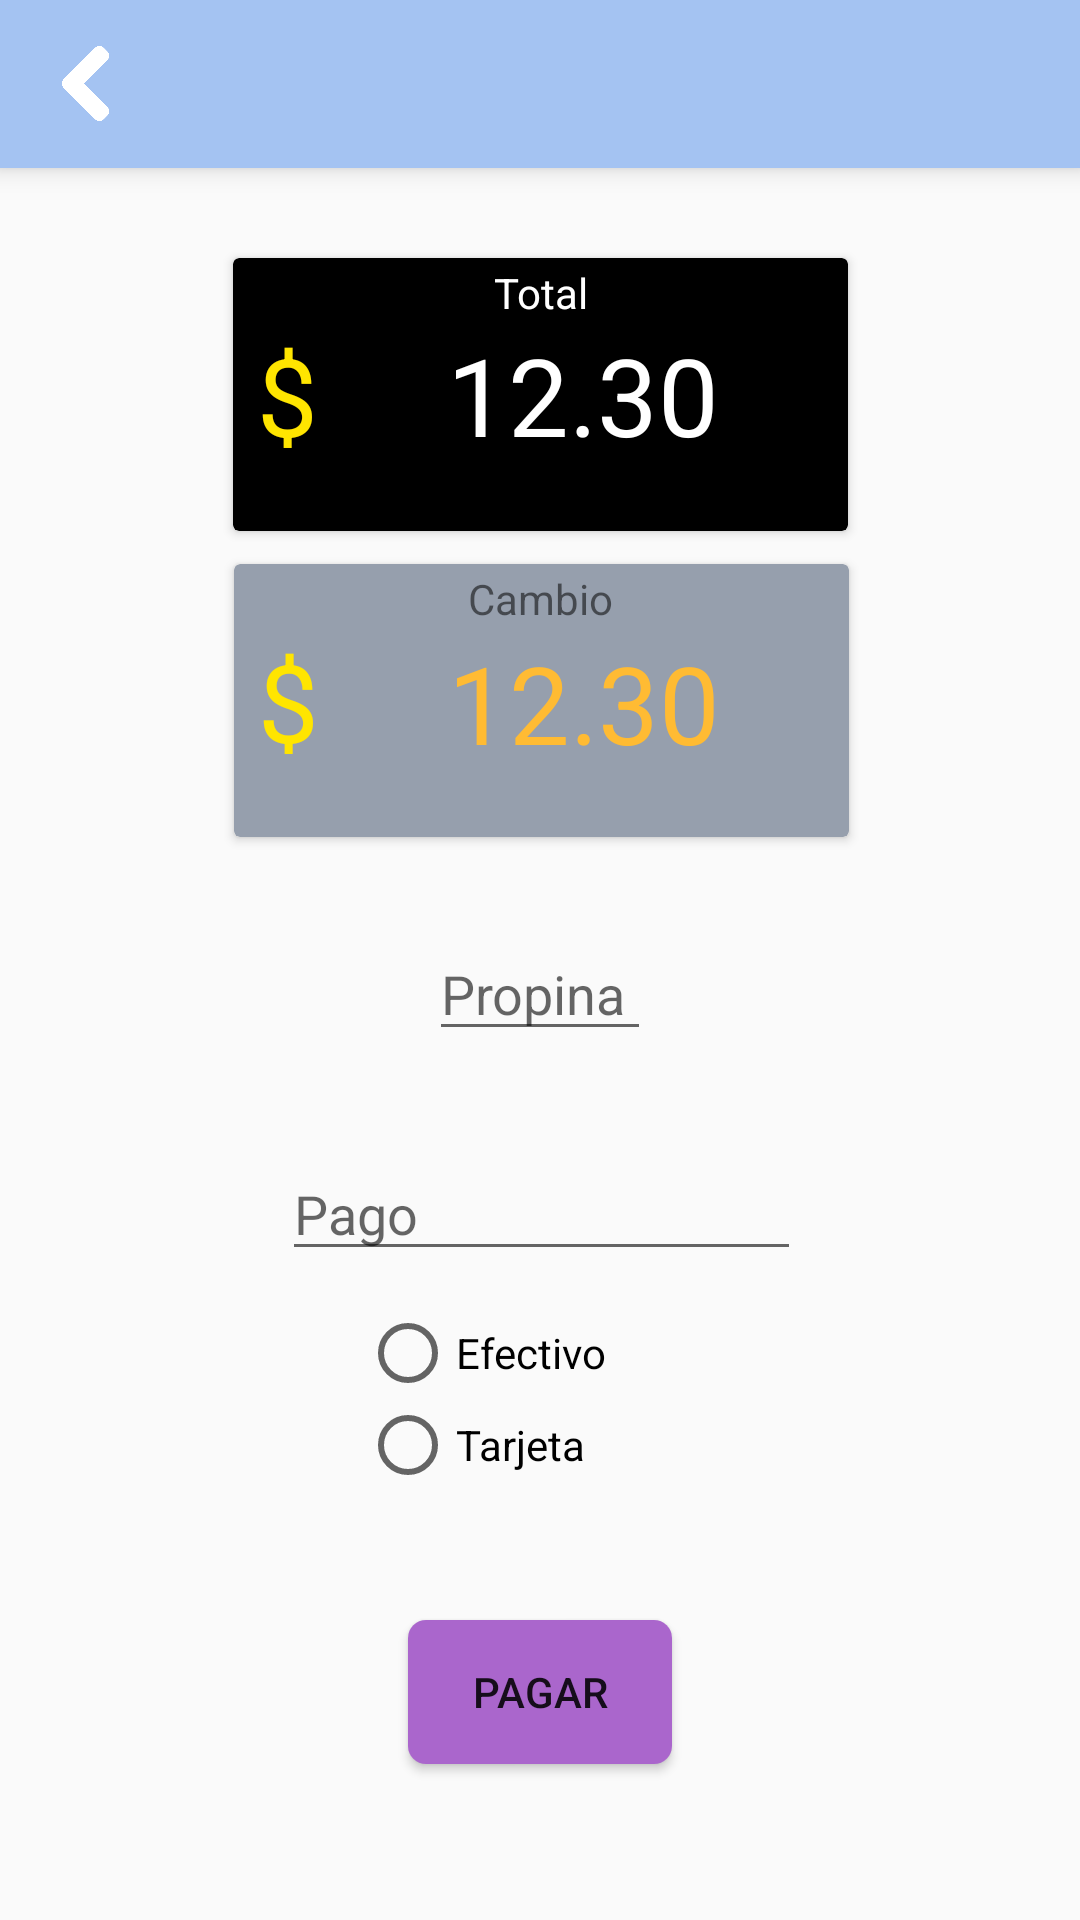

Locate icon controls on the screen. Image size 1080×1920, boxes as detection(x1, y1, x2, y2).
back: detection(62, 46, 109, 121)
